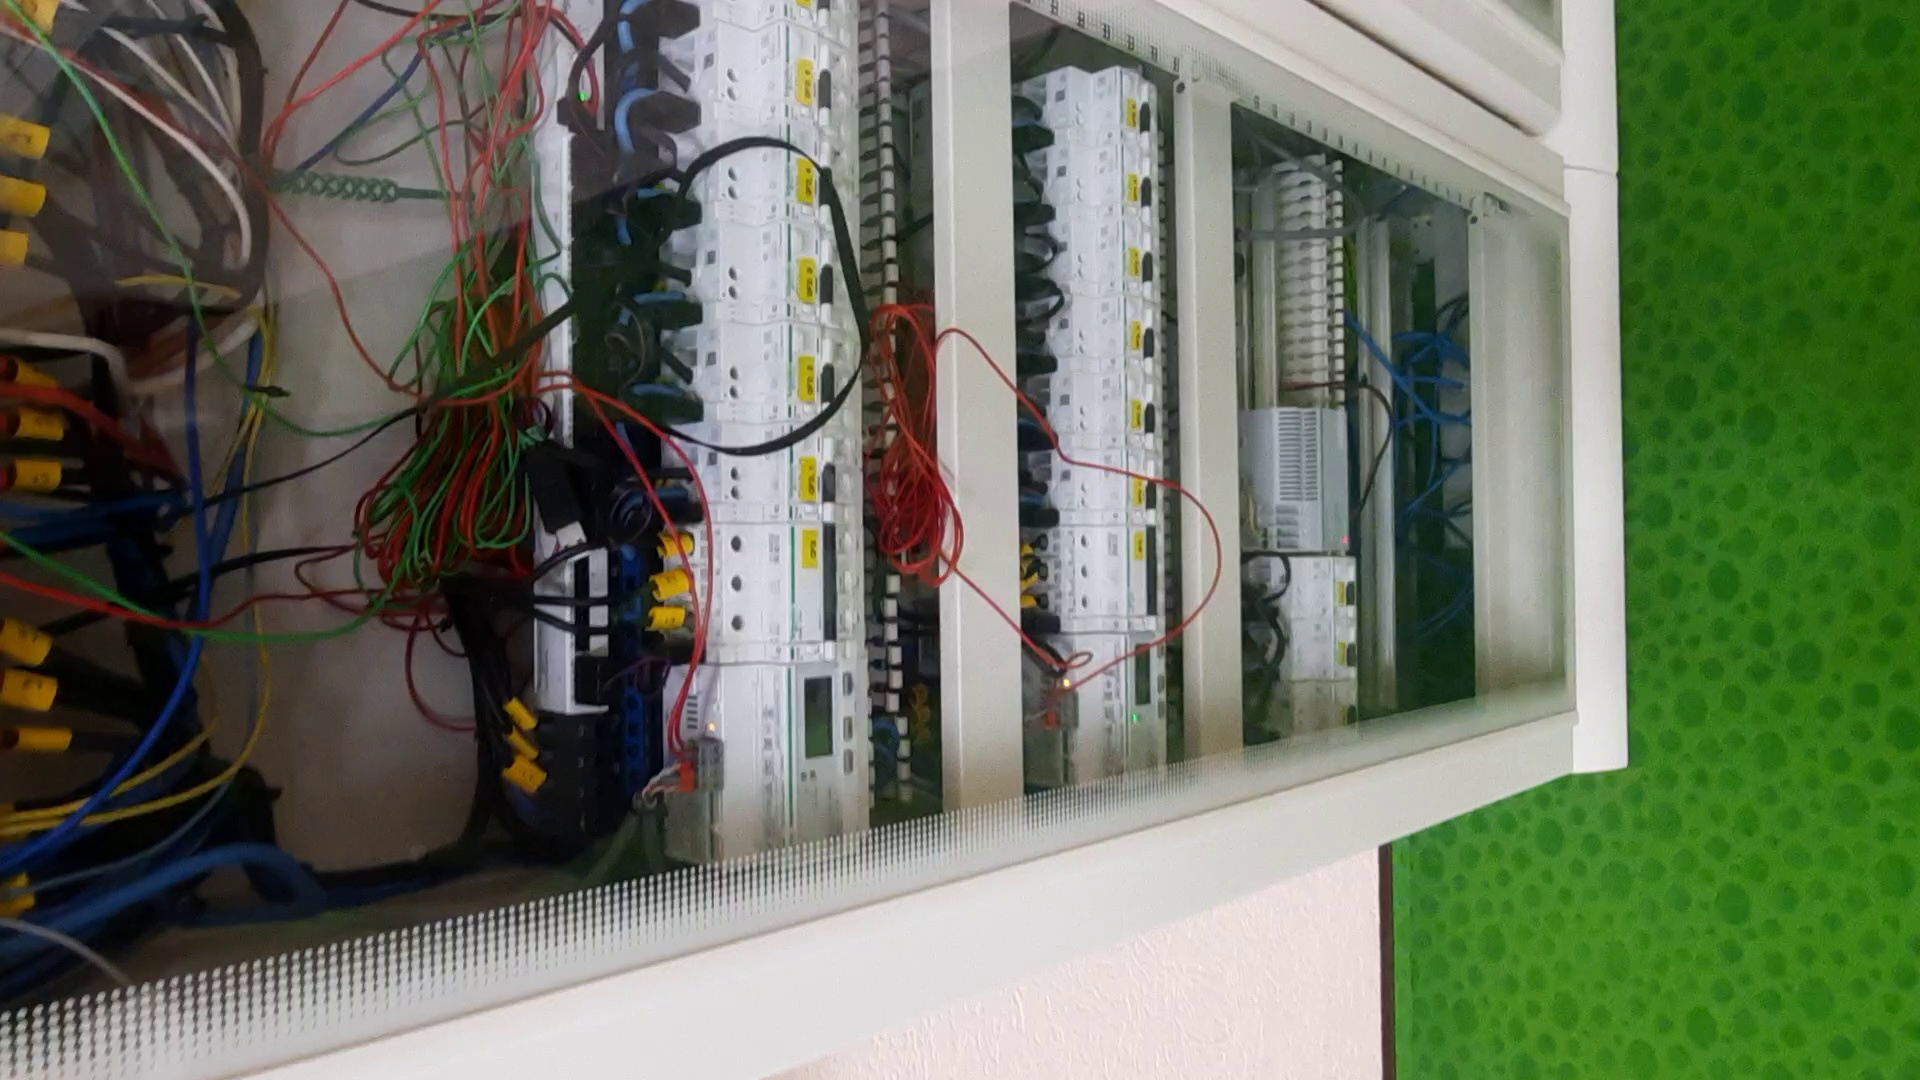stand1: (3, 1, 1636, 1060)
